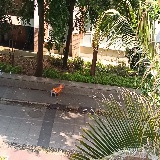fire: (53, 84, 64, 94)
